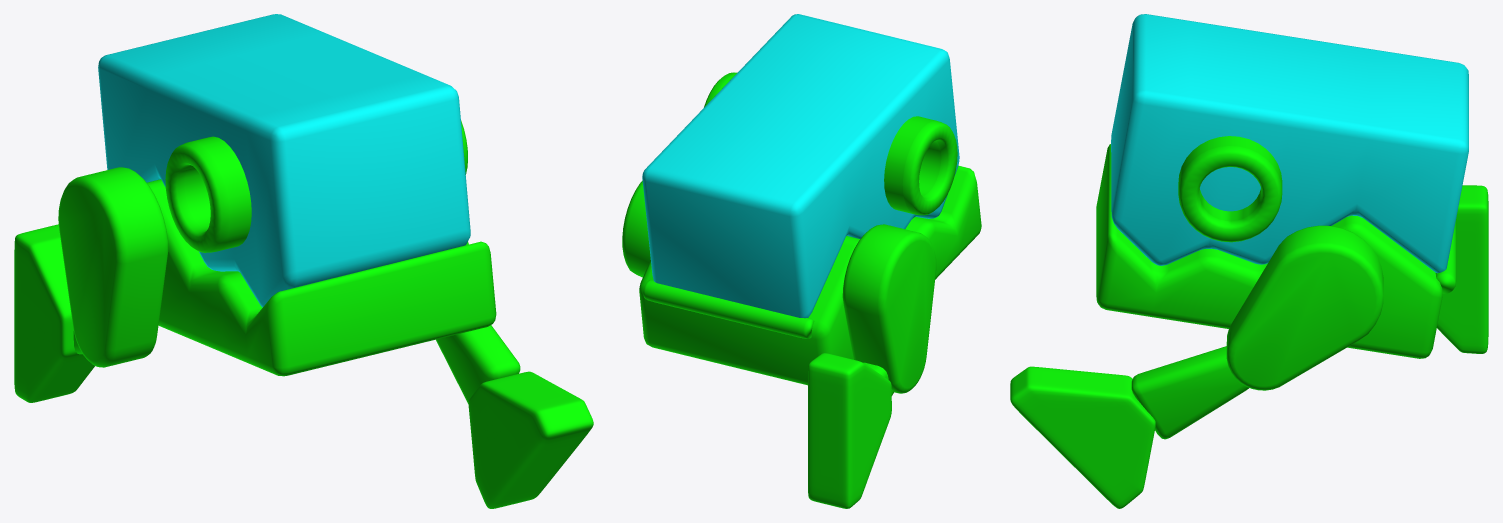
The picture shows the model from 3 angles, left to right: view 1: azimuth 30°, elevation 25°; view 2: azimuth 150°, elevation 25°; view 3: azimuth 270°, elevation 25°; orthographic projection. The views are drawn at different scales.
Parts seen in each view (by area): view 1: Top_Jaw, Lower_Jaw, Thighs_Left, Feet_Right, Feet_Left, Eyes, Shin_Right; view 2: Top_Jaw, Lower_Jaw, Thighs_Left, Feet_Left, Eyes, Hinge, Thighs_Right; view 3: Top_Jaw, Lower_Jaw, Thighs_Right, Feet_Right, Eyes, Feet_Left, Shin_Right, Hinge.
Part boxes in pixels (<box>): Top_Jaw: <box>98,14,470,307</box>; Lower_Jaw: <box>147,179,496,376</box>; Thighs_Left: <box>58,167,168,367</box>; Feet_Right: <box>468,371,593,508</box>; Feet_Left: <box>14,224,94,402</box>; Eyes: <box>165,120,467,252</box>; Shin_Right: <box>436,325,520,404</box>; Top_Jaw: <box>642,14,959,318</box>; Lower_Jaw: <box>639,165,981,385</box>; Thighs_Left: <box>842,224,936,393</box>; Feet_Left: <box>808,353,891,508</box>; Eyes: <box>704,72,957,215</box>; Hinge: <box>643,280,814,338</box>; Thighs_Right: <box>622,180,650,277</box>; Top_Jaw: <box>1111,14,1468,273</box>; Lower_Jaw: <box>1096,144,1442,358</box>; Thighs_Right: <box>1226,225,1383,390</box>; Feet_Right: <box>1010,366,1155,508</box>; Eyes: <box>1178,136,1282,242</box>; Feet_Left: <box>1437,185,1488,353</box>; Shin_Right: <box>1131,346,1248,439</box>; Hinge: <box>1435,219,1456,293</box>.
Size of the model in its own units: 2.03 by 2.5 by 2.8.
